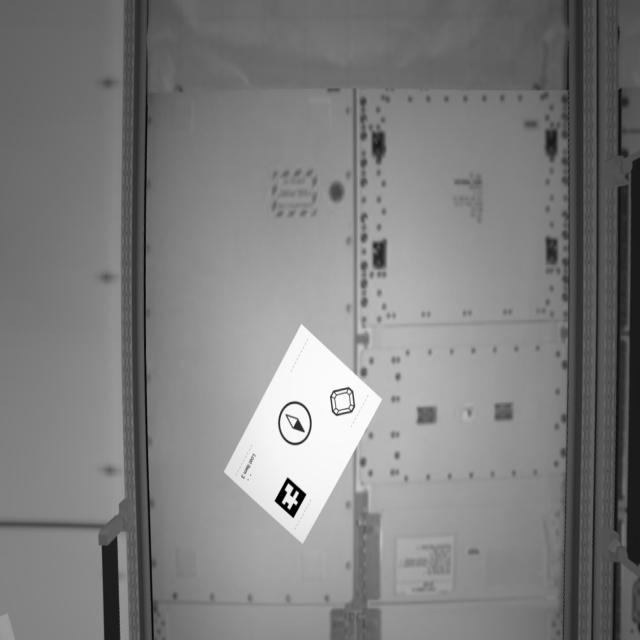compass: (277, 403, 317, 448)
emerald: (328, 380, 360, 425)
